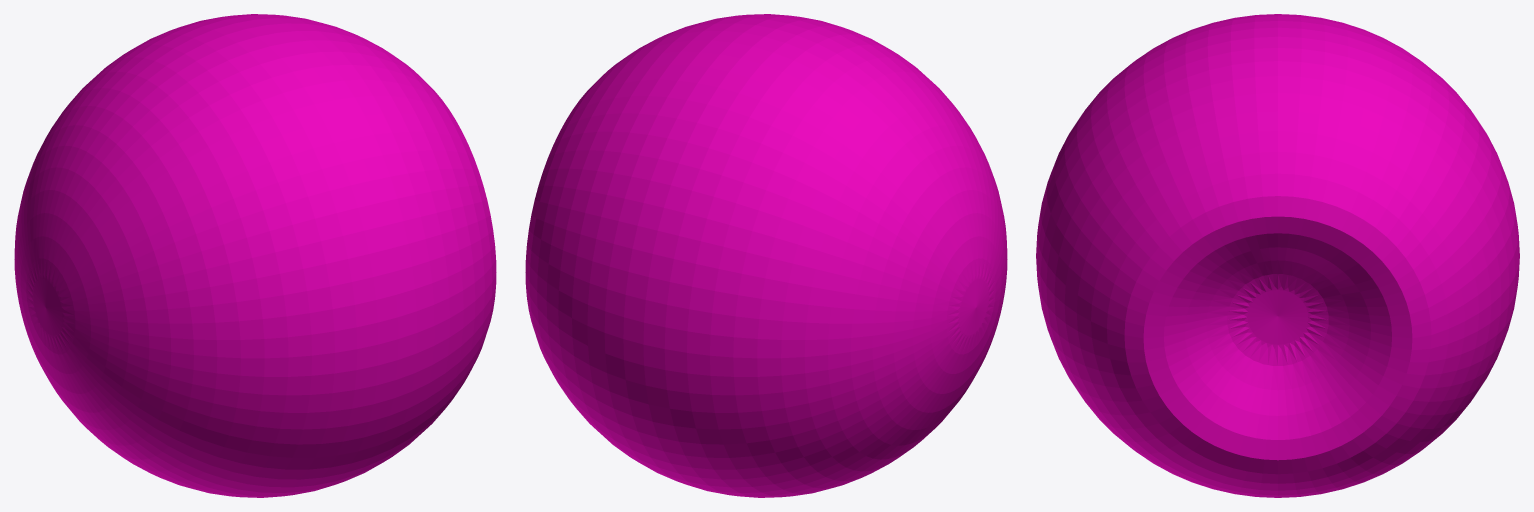
Rendered from Eye.dae.
3 views of the same model, side by side, from view 1: azimuth 30°, elevation 25°; view 2: azimuth 150°, elevation 25°; view 3: azimuth 270°, elevation 25° (orthographic).
Visible parts, largest first — view 1: Sphere; view 2: Sphere; view 3: Sphere.
Part boxes in pixels (x1,y1,x2,y2): Sphere: [14, 14, 496, 497]; Sphere: [525, 14, 1007, 497]; Sphere: [1036, 14, 1519, 497].
Bounding box in the file's own units: 1.79 × 1.97 × 1.97.
